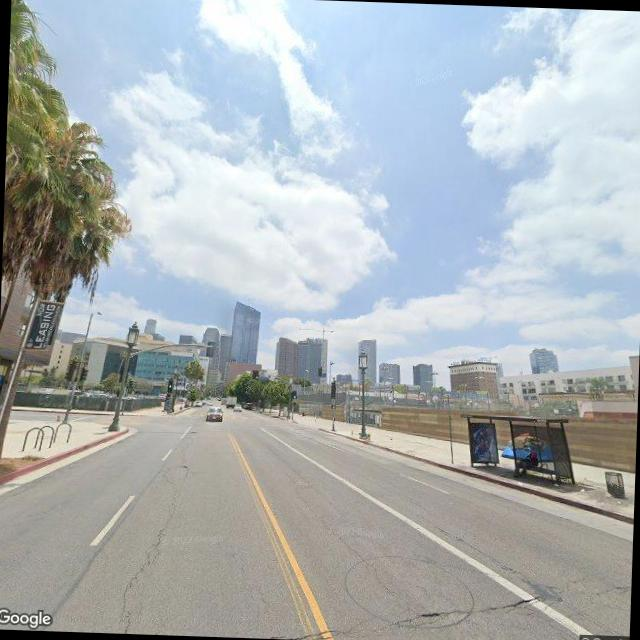crack: (292, 512, 551, 640), (414, 516, 536, 580), (112, 513, 170, 633)
